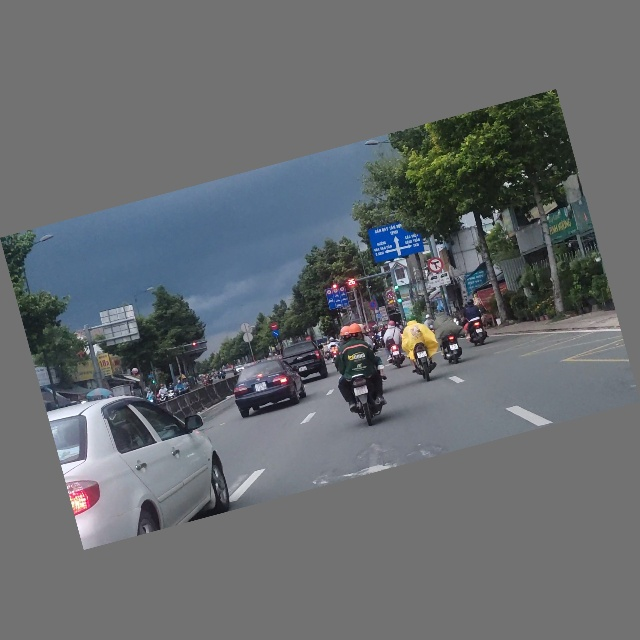P.102: (269, 322, 279, 332)
P.131a: (367, 301, 377, 310)
P.137: (427, 257, 445, 275)
R.302a: (272, 330, 280, 338)
R.415a: (326, 291, 350, 311)
